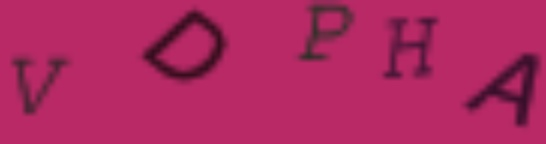A: (461, 51, 542, 128)
D: (137, 7, 230, 83)
H: (377, 14, 443, 82)
P: (294, 1, 357, 65)
V: (7, 54, 72, 119)
